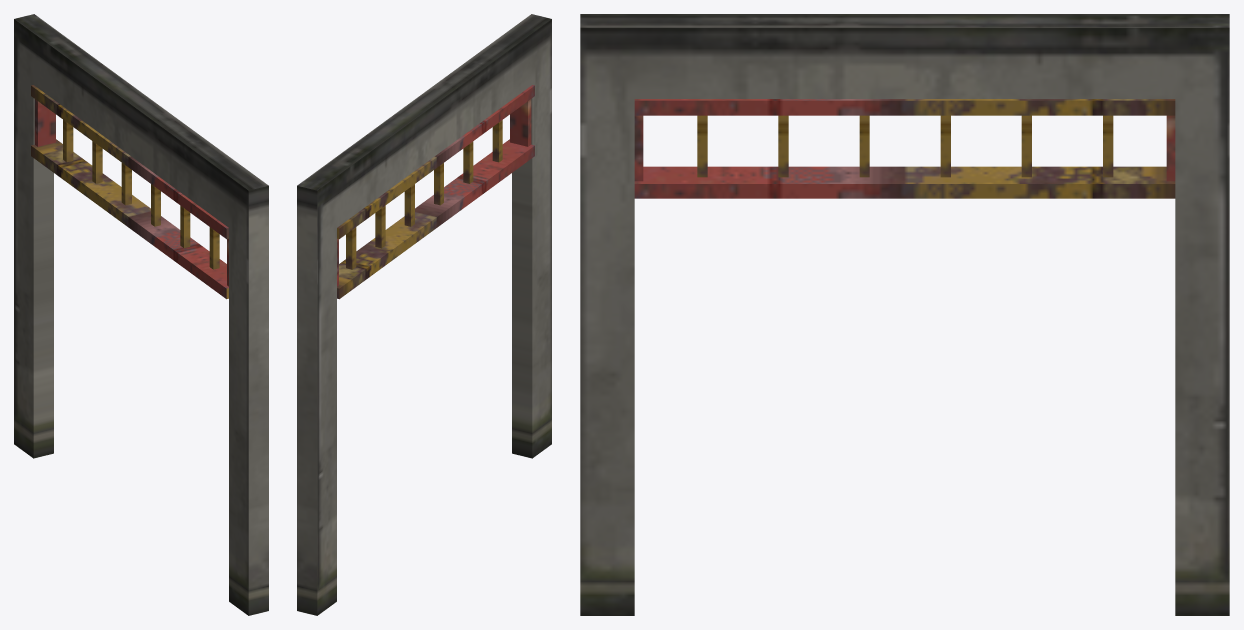
Rendered from SM_WALL_S_13_001.fbx.
3 views of the same model, side by side, from view 1: azimuth 30°, elevation 25°; view 2: azimuth 150°, elevation 25°; view 3: azimuth 270°, elevation 25° (orthographic). The views are drawn at different scales.
Visible parts, largest first — view 1: SM_WALL_S_13.001; view 2: SM_WALL_S_13.001; view 3: SM_WALL_S_13.001.
Part boxes in pixels (x1,y1,x2,y2): SM_WALL_S_13.001: (14,14,268,615); SM_WALL_S_13.001: (297,14,551,615); SM_WALL_S_13.001: (580,14,1229,615).
Bounding box in the file's own units: 0.2501 × 4 × 4.
